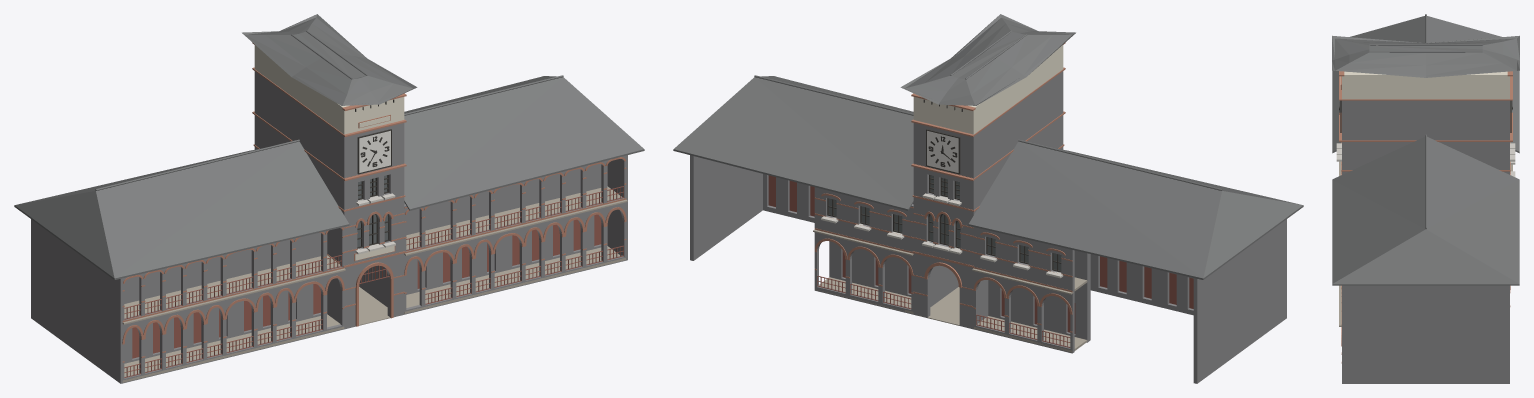
File: lod-source.glb
The picture shows the model from 3 angles, left to right: view 1: azimuth 30°, elevation 25°; view 2: azimuth 150°, elevation 25°; view 3: azimuth 270°, elevation 25°; orthographic projection. The views are drawn at different scales.
Visible parts, largest first — view 1: 圣约翰大学怀施堂（韬奋楼）南翼与钟楼; view 2: 圣约翰大学怀施堂（韬奋楼）南翼与钟楼; view 3: 圣约翰大学怀施堂（韬奋楼）南翼与钟楼.
Part boxes in pixels (left/top/right/bottom): 圣约翰大学怀施堂（韬奋楼）南翼与钟楼: left=14, top=14, right=644, bottom=383; 圣约翰大学怀施堂（韬奋楼）南翼与钟楼: left=673, top=14, right=1303, bottom=383; 圣约翰大学怀施堂（韬奋楼）南翼与钟楼: left=1332, top=14, right=1519, bottom=383.
Bounding box in the file's own units: 42.65 × 18.06 × 13.98.
